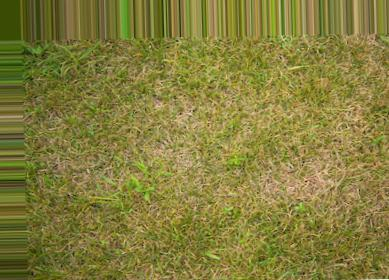patch: (257, 148, 323, 197), (53, 149, 128, 192), (262, 104, 330, 144), (149, 89, 210, 128), (75, 114, 144, 143), (103, 67, 147, 112), (158, 132, 208, 171), (213, 161, 255, 206), (223, 101, 254, 154), (338, 92, 360, 138), (136, 147, 155, 189), (142, 201, 169, 219)
